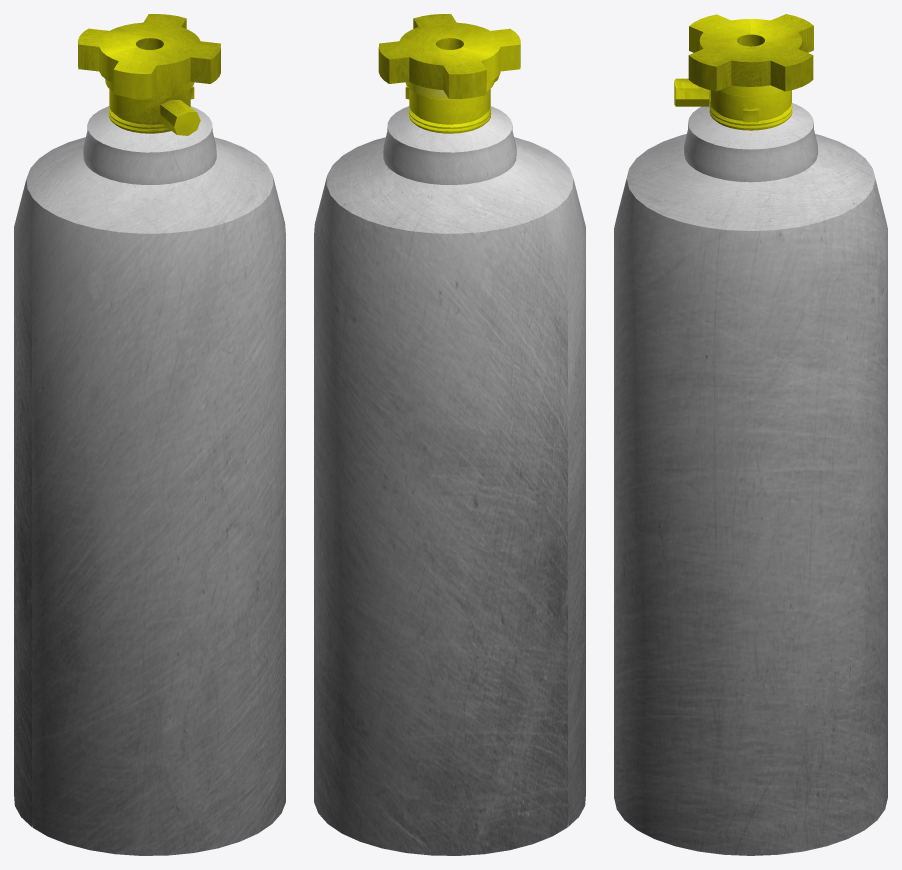
File: OxygenTank.fbx
3 renders of one model, left to right at view 1: azimuth 30°, elevation 25°; view 2: azimuth 150°, elevation 25°; view 3: azimuth 270°, elevation 25°, orthographic.
Parts seen in each view (by area): view 1: Cylinder; view 2: Cylinder; view 3: Cylinder.
Boxes of the visible parts, x1=… form: Cylinder: x1=14, y1=14, x2=285, y2=855; Cylinder: x1=314, y1=14, x2=585, y2=855; Cylinder: x1=614, y1=14, x2=887, y2=855.
Bounding box in the file's own units: 73 × 223 × 73.
1 material, 1 textured.
